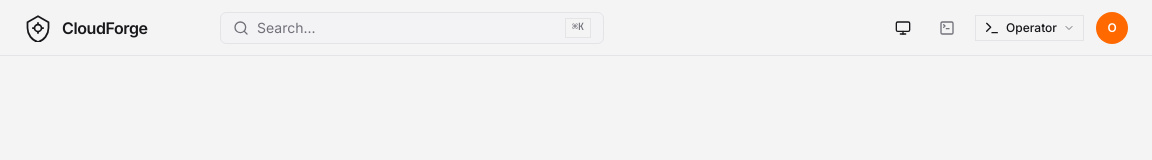
TopNav terminal access › renders the terminal button for operator sessions and toggles active state
Click the button named "Show terminal panel" at (947, 28), box [931,12,963,44]
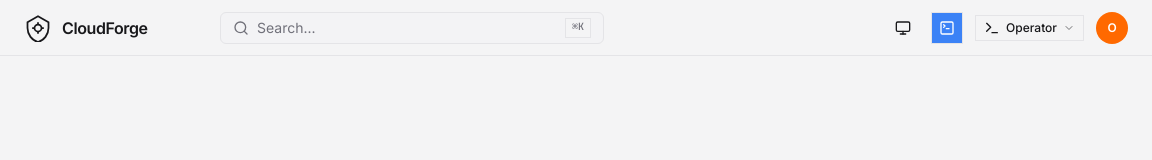
Expected: the button named "Hide terminal panel" is shown, [931,12,963,44]
